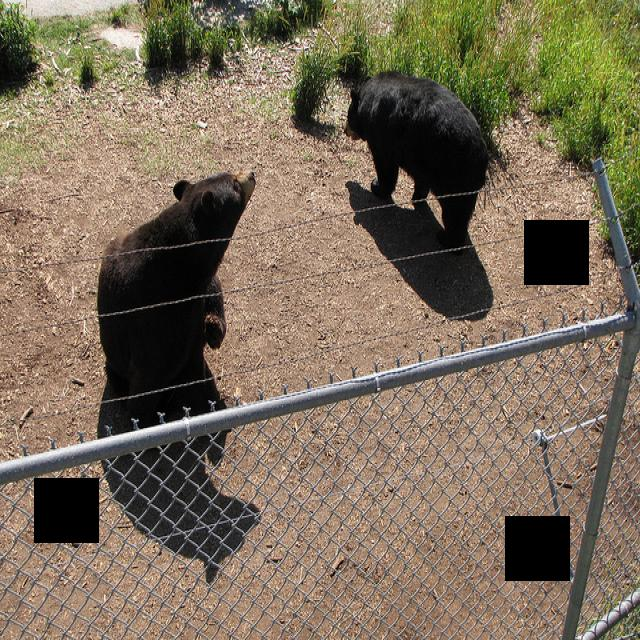Bear: (97, 160, 257, 351), (344, 66, 491, 236)
